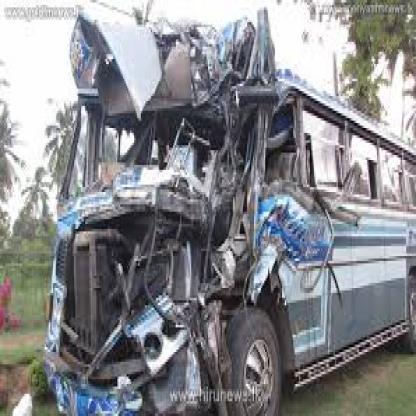accident: (46, 15, 375, 415)
